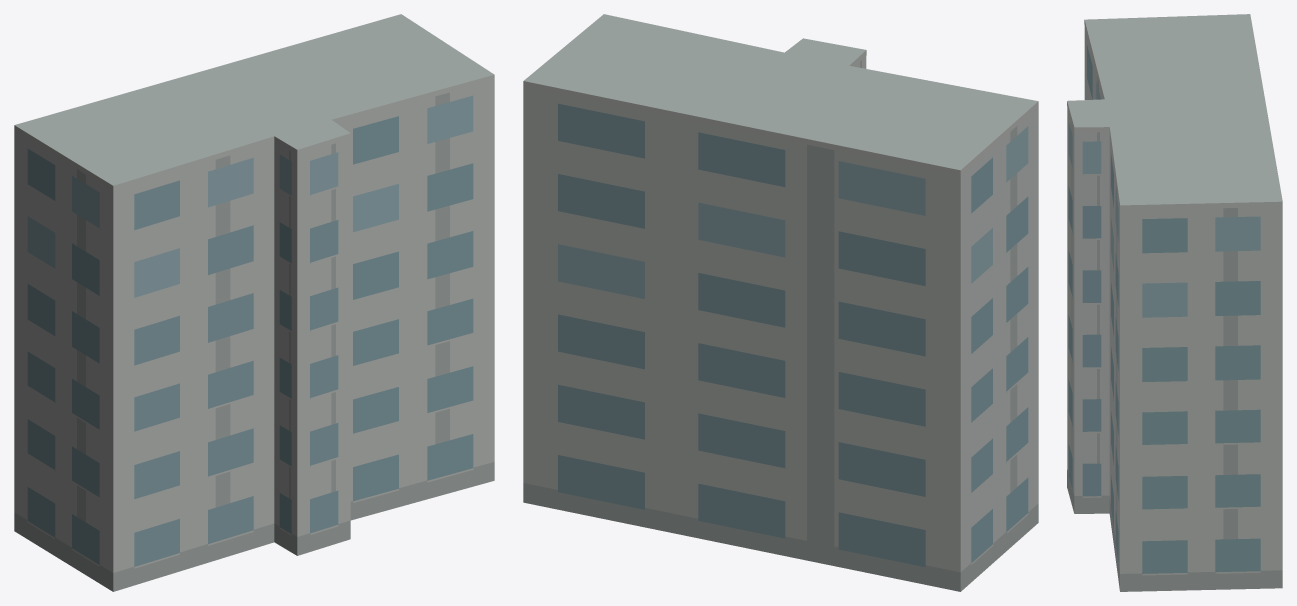
The model's file is survey-upis-32899403.glb.
3 renders of one model, left to right at view 1: azimuth 30°, elevation 25°; view 2: azimuth 150°, elevation 25°; view 3: azimuth 270°, elevation 25°, orthographic. The views are drawn at different scales.
Visible parts, largest first — view 1: survey-upis-32899403.tmp; view 2: survey-upis-32899403.tmp; view 3: survey-upis-32899403.tmp.
Part boxes in pixels (<box>): survey-upis-32899403.tmp: <box>14,14,494,591</box>; survey-upis-32899403.tmp: <box>523,14,1038,591</box>; survey-upis-32899403.tmp: <box>1067,14,1282,591</box>.
Size of the model in its own units: 19.44 by 18.3 by 9.26.
